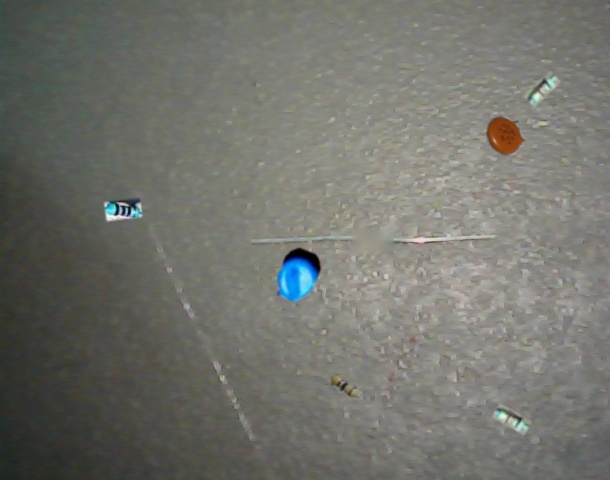capacitor: (277, 248, 322, 302), (487, 117, 526, 155)
resistor: (524, 71, 560, 107), (492, 404, 531, 435), (104, 198, 142, 221), (331, 375, 360, 398)
